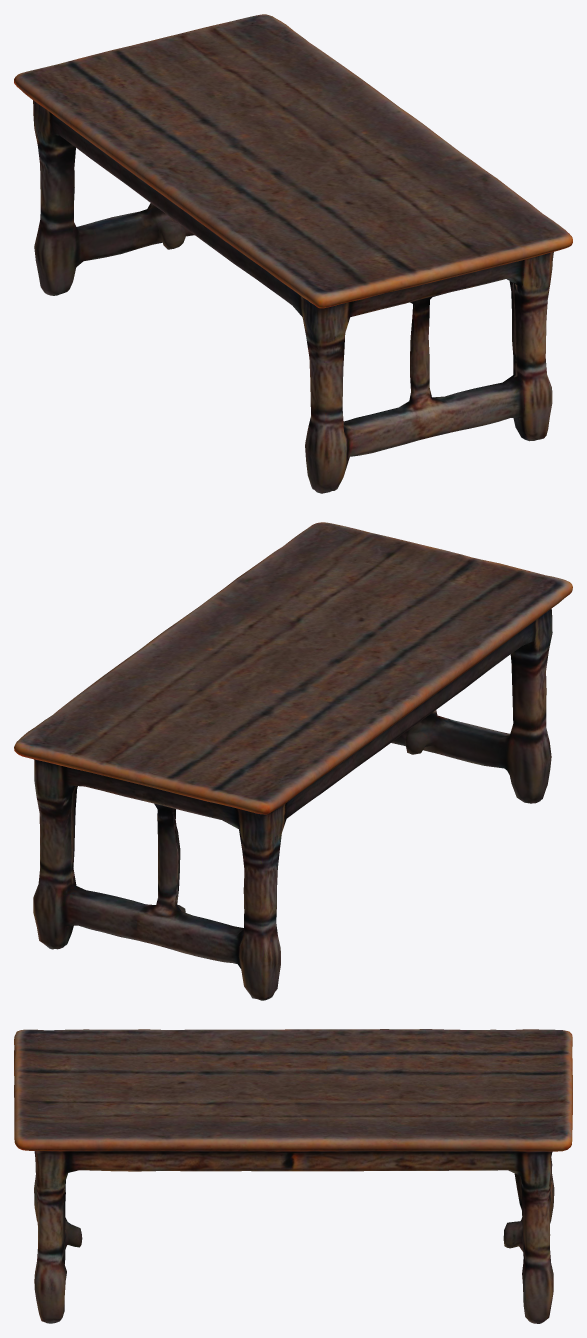
The model's file is 45717def3271_table_min.fbx.
3 renders of one model, top to bottom at view 1: azimuth 30°, elevation 25°; view 2: azimuth 150°, elevation 25°; view 3: azimuth 270°, elevation 25°, orthographic. The views are drawn at different scales.
Parts seen in each view (by area): view 1: mesh; view 2: mesh; view 3: mesh.
Boxes of the visible parts, left/top/right/bottom form: mesh: left=14, top=14, right=572, bottom=493; mesh: left=14, top=522, right=572, bottom=1000; mesh: left=14, top=1029, right=572, bottom=1323.
Size of the model in its own units: 48.54 by 37.73 by 99.93.
